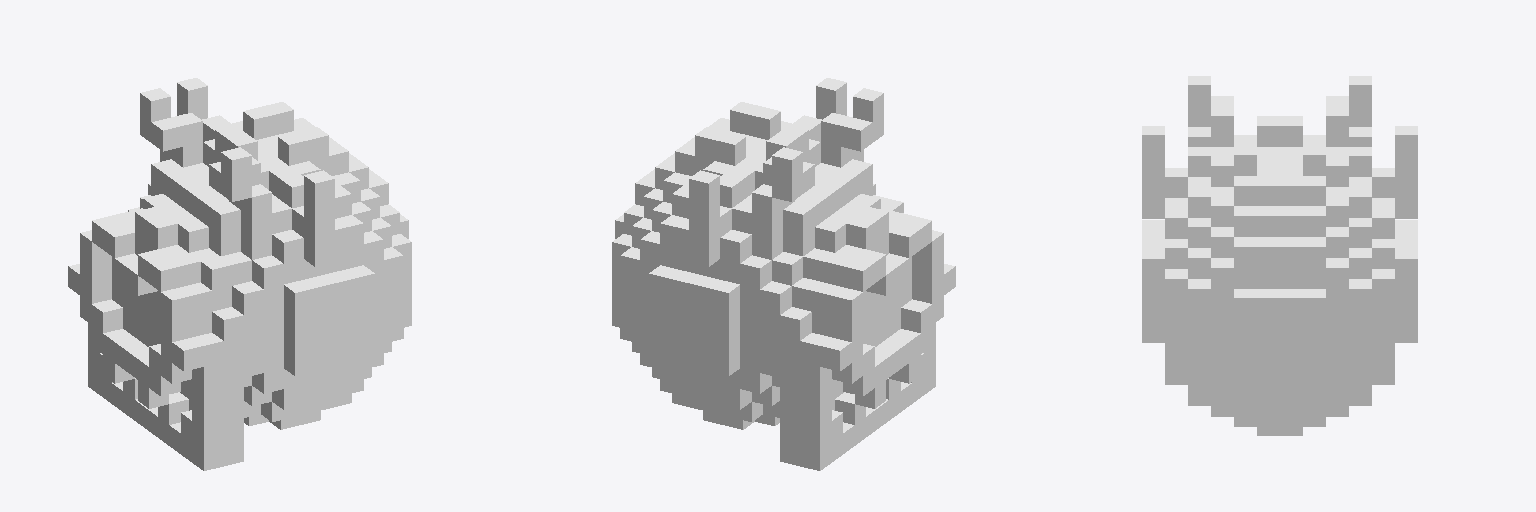
The model's file is Enemy3.1.obj.
The picture shows the model from 3 angles: view 1: azimuth 30°, elevation 25°; view 2: azimuth 150°, elevation 25°; view 3: azimuth 270°, elevation 25°; orthographic projection.
Bounding box in the file's own units: 13 × 14 × 12.